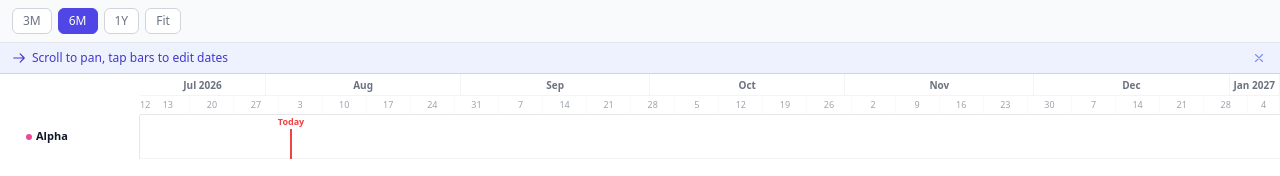
Test: RoadmapMobileView › scroll hint › hides hint after dismissal
The width and height of the screenshot is (1280, 176).
What coordinates should you click on to do the following:
click the button named "Dismiss hint"
I would click on:
 (1259, 58)
Its box is left=1250, top=49, right=1268, bottom=67.
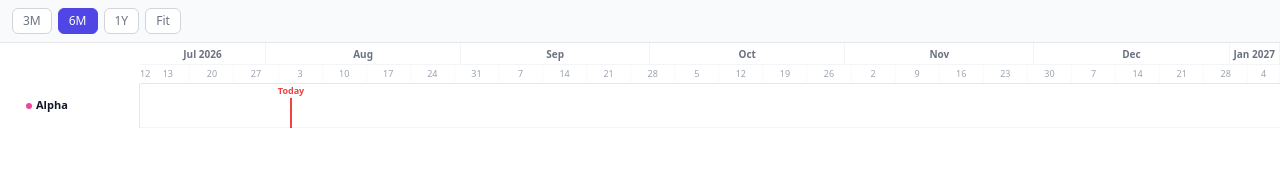
Expected: the text "Scroll to pan" is gone
